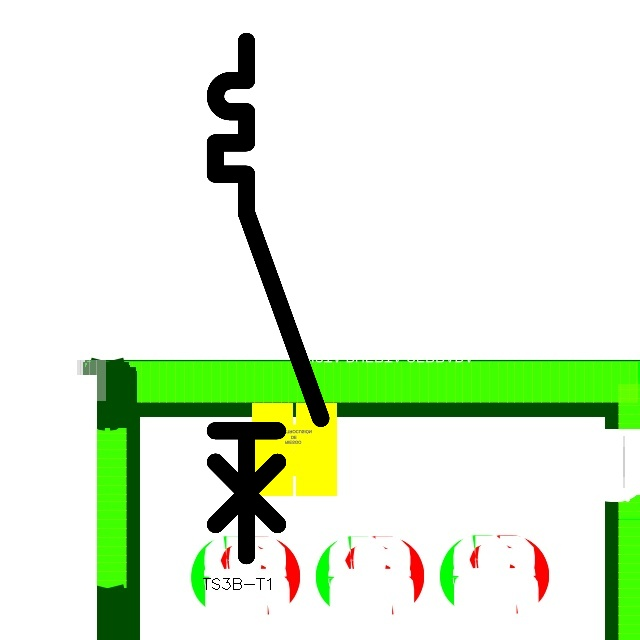interruptor_termomagnetico: (202, 28, 334, 569)
